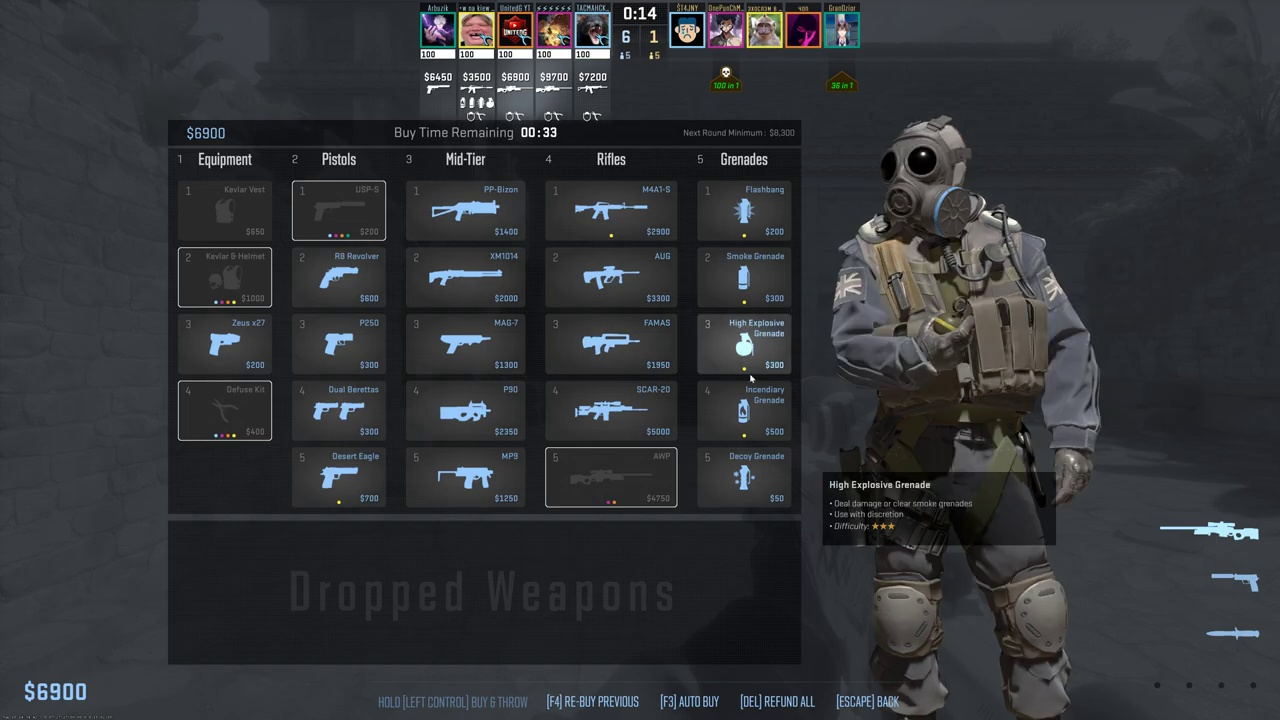CT: (855, 120, 1078, 720)
